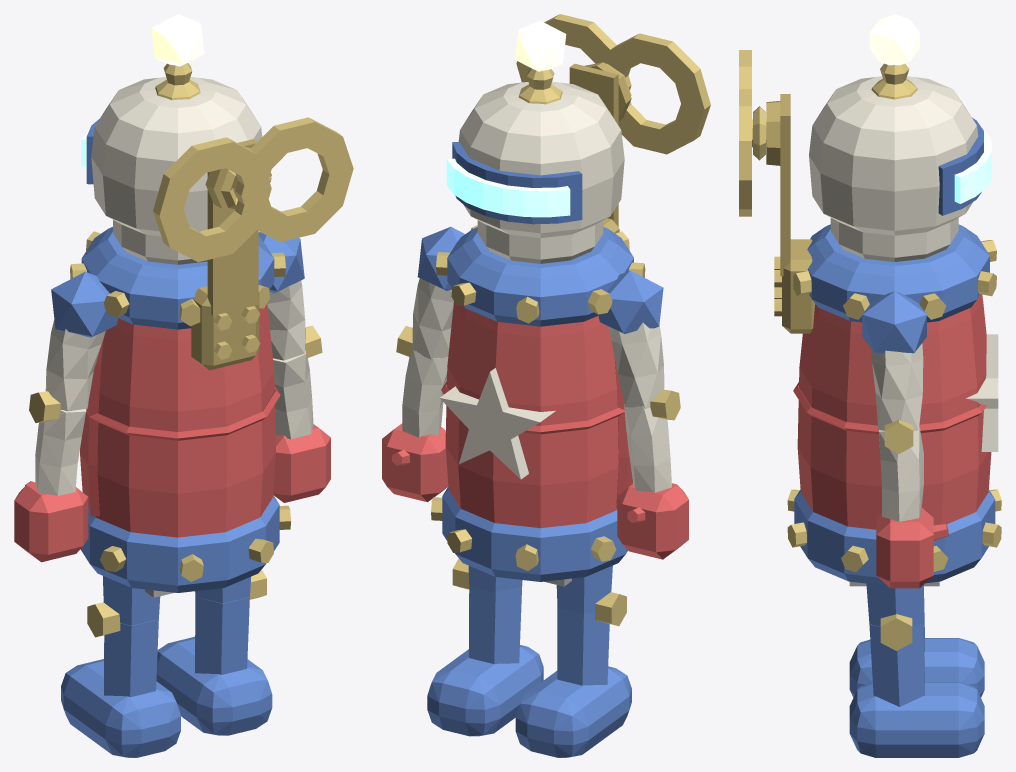
The model's file is Tick.fbx.
The picture shows the model from 3 angles, left to right: view 1: azimuth 30°, elevation 25°; view 2: azimuth 150°, elevation 25°; view 3: azimuth 270°, elevation 25°; orthographic projection. The views are drawn at different scales.
Parts seen in each view (by area): view 1: Tick_Body_Red, Tick_Head_Cream, Tick_Key_Brass, Tick_BeltBand_Blue, Tick_Foot_L_Blue, Tick_KeyPlate_BrassDark, Tick_CollarBand_Blue, Tick_Foot_R_Blue, Tick_Fist_L_Red, Tick_Bolts_Brass, Tick_LegLower_R_Blue, Tick_LegLower_L_Blue (+14 smaller); view 2: Tick_Body_Red, Tick_Head_Cream, Tick_CollarBand_Blue, Tick_Key_Brass, Tick_BeltBand_Blue, Tick_Foot_L_Blue, Tick_Foot_R_Blue, Tick_Star_Cream, Tick_Fist_L_Red, Tick_Fist_R_Red, Tick_Visor_VisorGlow, Tick_LegLower_R_Blue (+17 smaller); view 3: Tick_Body_Red, Tick_Head_Cream, Tick_CollarBand_Blue, Tick_Foot_R_Blue, Tick_BeltBand_Blue, Tick_KeyPlate_BrassDark, Tick_Bolts_Brass, Tick_Fist_R_Red, Tick_Foot_L_Blue, Tick_ArmUpper_R_Cream, Tick_LegLower_R_Blue, Tick_Shoulder_R_Blue (+11 smaller).
Part boxes in pixels (<box>): Tick_Body_Red: <box>80,303,275,537</box>; Tick_Head_Cream: <box>91,77,262,264</box>; Tick_Key_Brass: <box>153,117,353,262</box>; Tick_BeltBand_Blue: <box>80,495,279,592</box>; Tick_Foot_L_Blue: <box>61,659,180,757</box>; Tick_KeyPlate_BrassDark: <box>191,139,271,370</box>; Tick_CollarBand_Blue: <box>81,227,274,329</box>; Tick_Foot_R_Blue: <box>156,636,272,735</box>; Tick_Fist_L_Red: <box>14,481,88,562</box>; Tick_Bolts_Brass: <box>70,231,290,581</box>; Tick_LegLower_R_Blue: <box>195,596,249,674</box>; Tick_LegLower_L_Blue: <box>104,619,158,697</box>; Tick_Body_Red: <box>445,301,633,528</box>; Tick_Head_Cream: <box>458,81,624,263</box>; Tick_CollarBand_Blue: <box>447,227,633,326</box>; Tick_Key_Brass: <box>516,14,710,154</box>; Tick_BeltBand_Blue: <box>442,487,627,581</box>; Tick_Foot_L_Blue: <box>515,666,631,757</box>; Tick_Foot_R_Blue: <box>427,645,543,736</box>; Tick_Star_Cream: <box>440,368,555,479</box>; Tick_Fist_L_Red: <box>617,483,688,559</box>; Tick_Fist_R_Red: <box>382,423,448,502</box>; Tick_Visor_VisorGlow: <box>446,158,570,217</box>; Tick_LegLower_R_Blue: <box>469,586,521,663</box>; Tick_Body_Red: <box>797,294,991,529</box>; Tick_Head_Cream: <box>809,76,978,261</box>; Tick_CollarBand_Blue: <box>807,224,989,322</box>; Tick_Foot_R_Blue: <box>849,682,984,757</box>; Tick_BeltBand_Blue: <box>794,489,995,585</box>; Tick_KeyPlate_BrassDark: <box>766,94,815,333</box>; Tick_Bolts_Brass: <box>774,240,1001,572</box>; Tick_Fist_R_Red: <box>876,508,949,588</box>; Tick_Foot_L_Blue: <box>849,638,984,697</box>; Tick_ArmUpper_R_Cream: <box>870,343,923,430</box>; Tick_LegLower_R_Blue: <box>869,619,924,706</box>; Tick_Shoulder_R_Blue: <box>862,291,926,354</box>.
Size of what is drawn, in the model's own units: 3.98 by 9.1 by 3.03.
